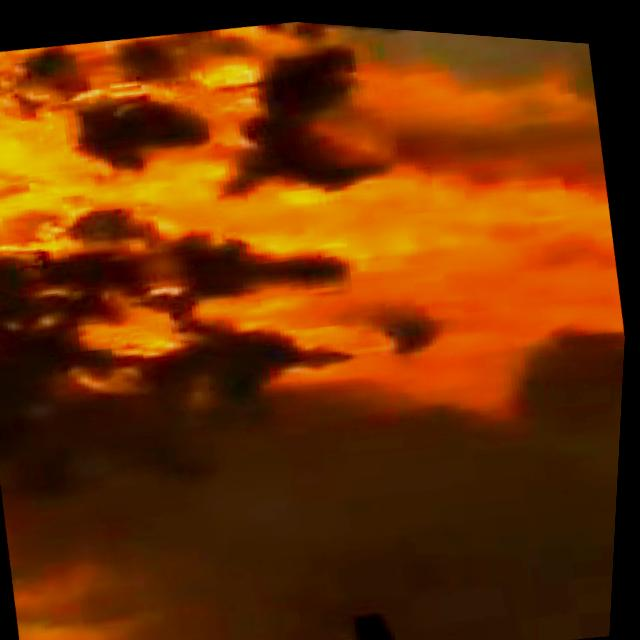fire: (0, 0, 640, 486)
